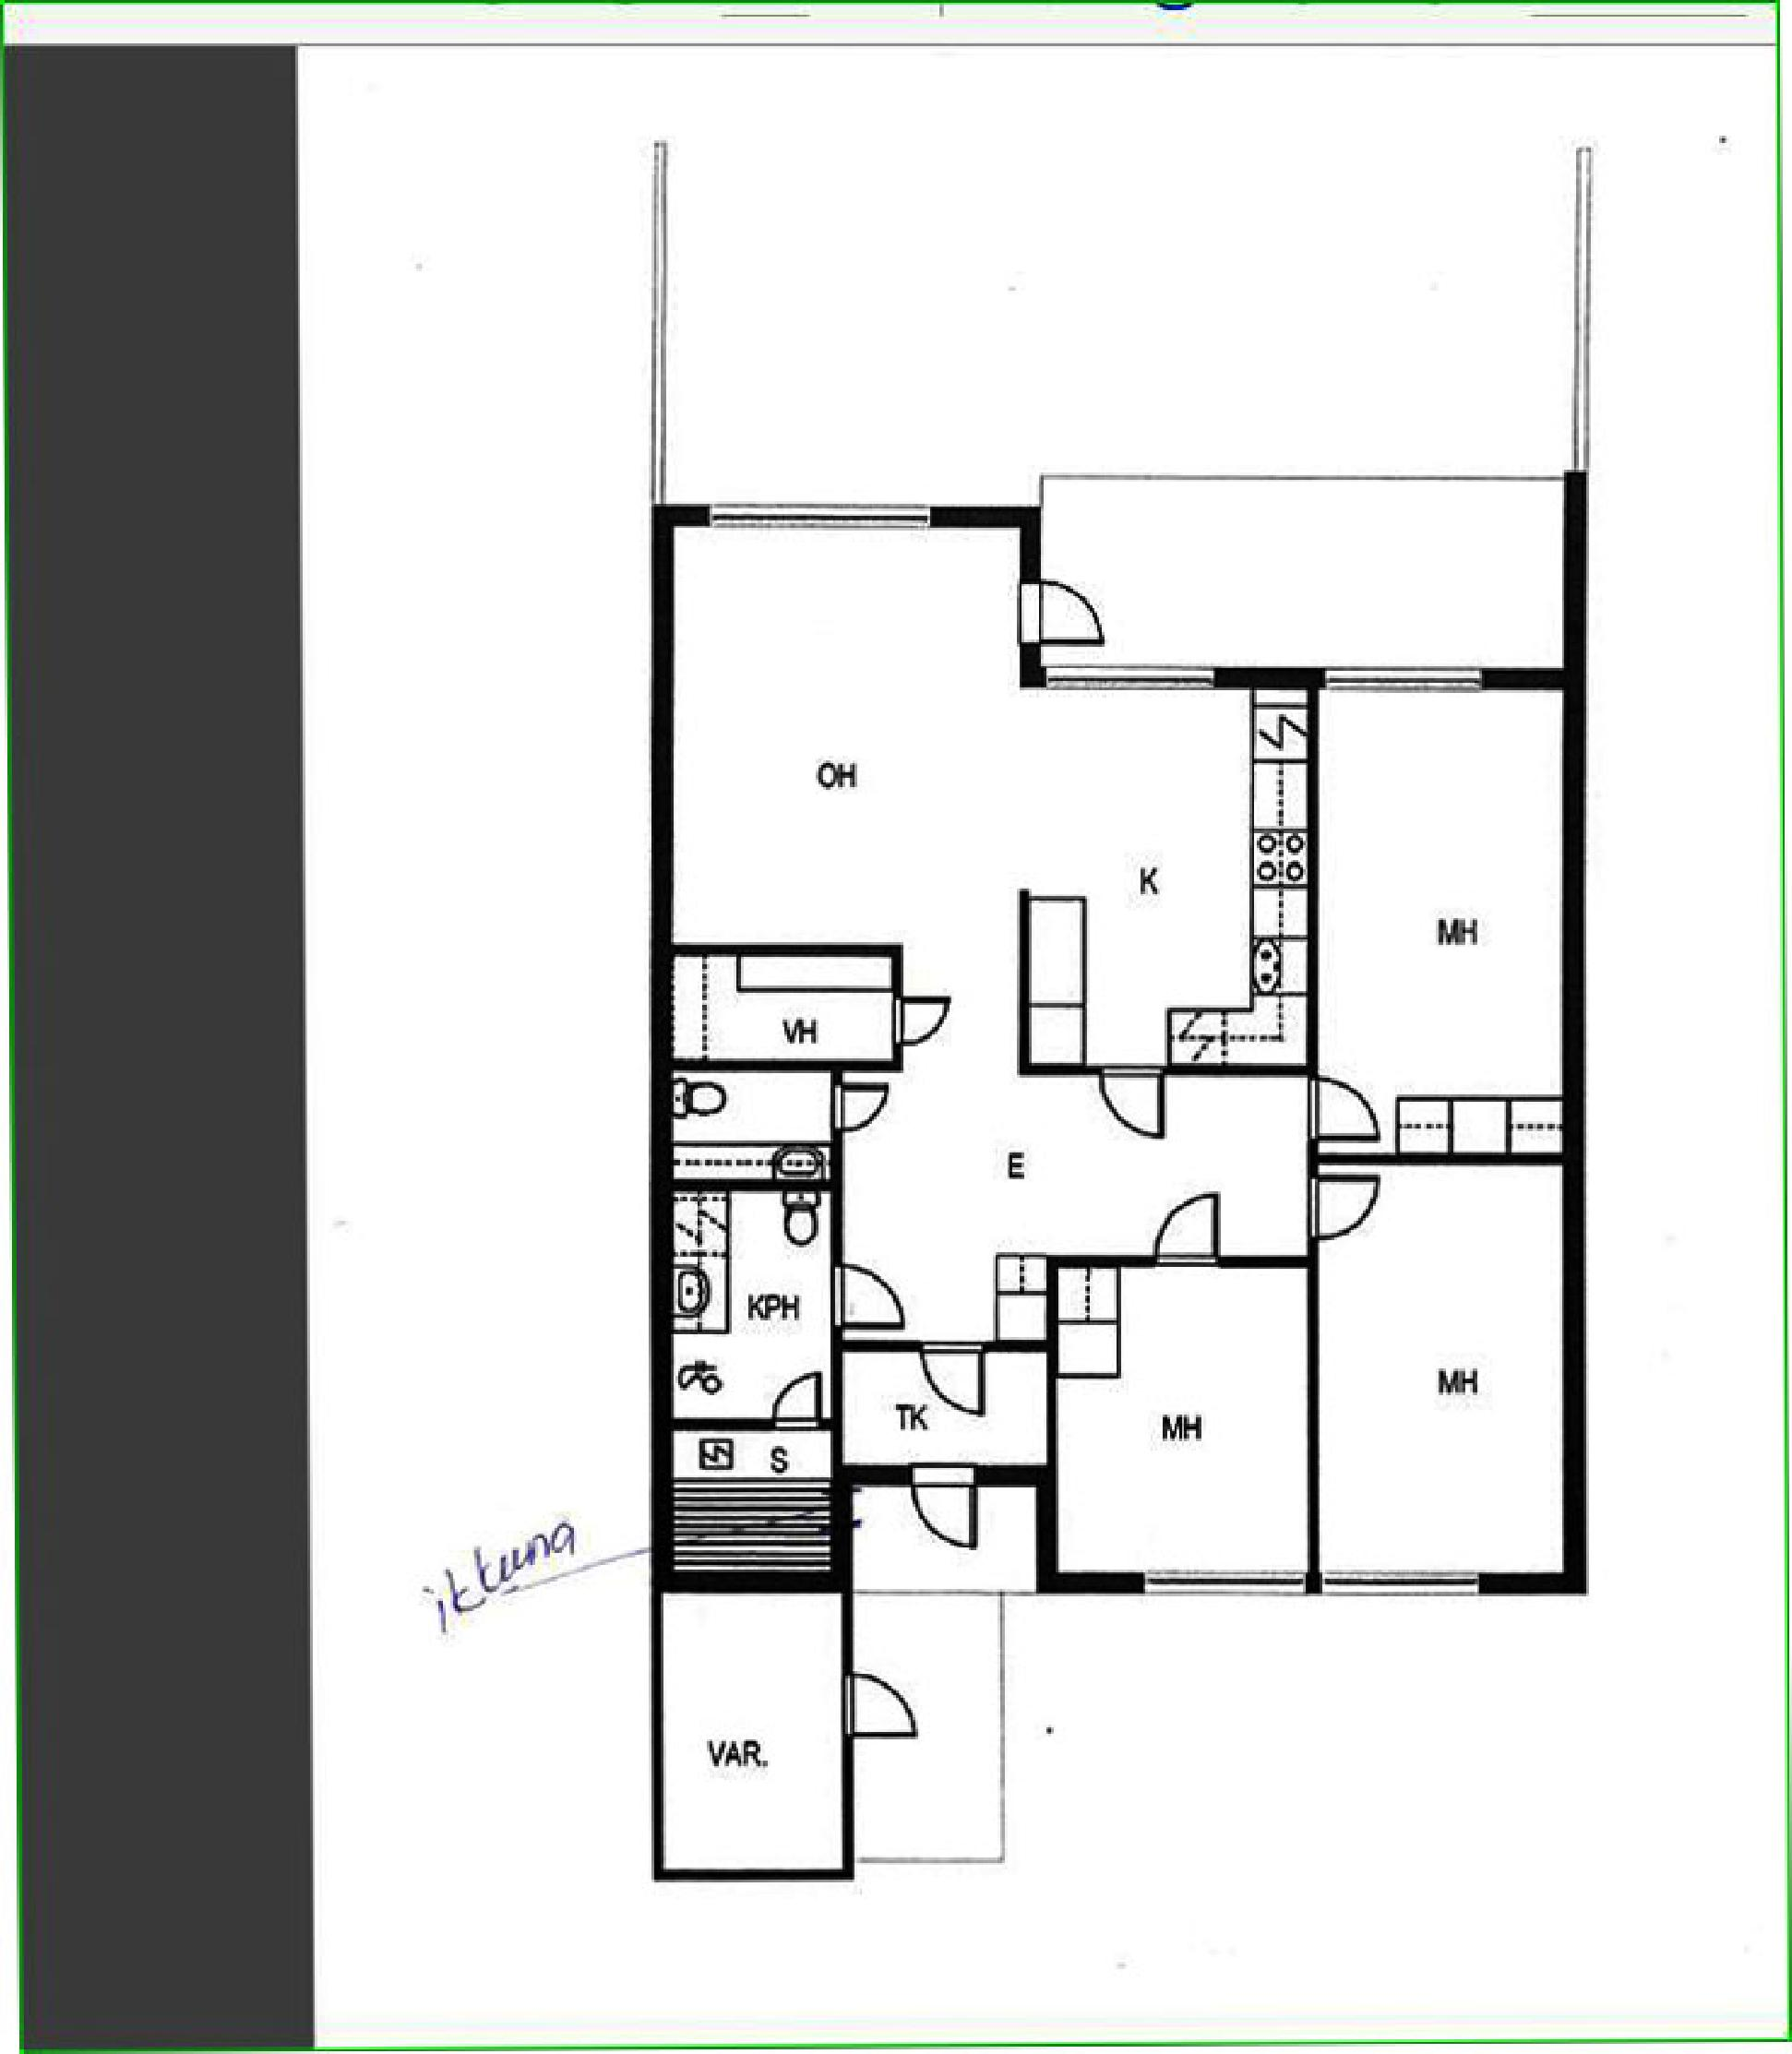door: (912, 1464, 989, 1554), (1093, 1055, 1170, 1141), (917, 1341, 987, 1425), (1018, 578, 1102, 646), (1301, 1074, 1382, 1141), (842, 1673, 915, 1740), (828, 1259, 901, 1324), (1298, 1179, 1380, 1235), (1158, 1189, 1219, 1259), (894, 996, 950, 1048), (830, 1074, 882, 1128), (775, 1364, 819, 1425)
window: (706, 498, 926, 529), (1041, 658, 1217, 690), (1324, 664, 1472, 699), (1312, 1563, 1471, 1595), (1142, 1563, 1294, 1595)
zone: (671, 524, 1303, 1327), (662, 143, 1572, 510), (1315, 693, 1558, 1146), (1320, 1165, 1567, 1567), (1039, 477, 1572, 660), (1055, 1258, 1319, 1572), (660, 1598, 851, 1867), (844, 1595, 1001, 1864), (672, 1195, 835, 1411), (837, 1343, 1053, 1464), (671, 1430, 837, 1577), (669, 954, 893, 1046), (854, 1490, 1032, 1588), (671, 1062, 828, 1165)
